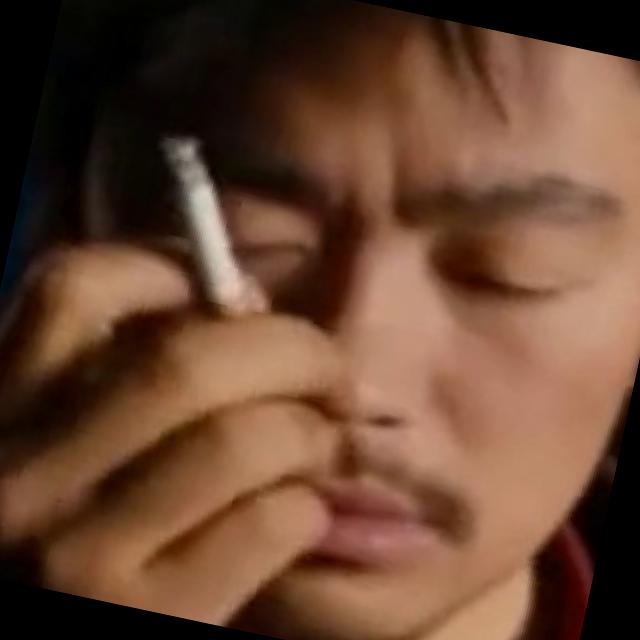cigarette: (106, 116, 314, 352)
